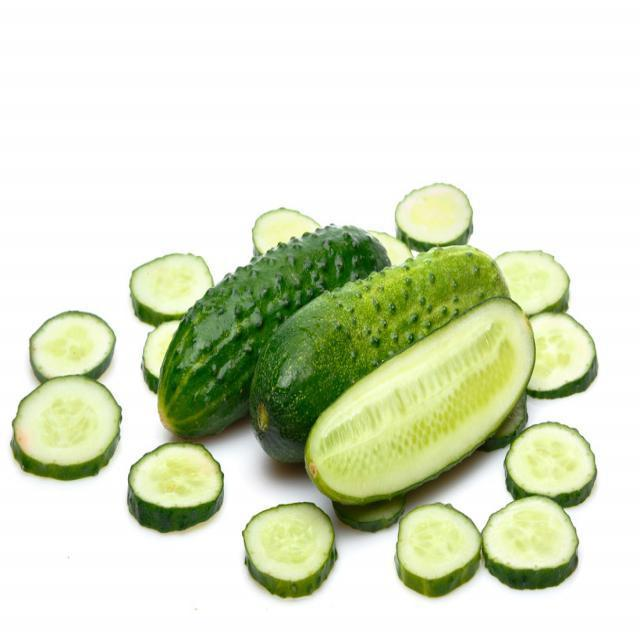cucumber: (25, 150, 604, 615), (308, 287, 540, 502), (0, 362, 133, 498), (458, 478, 590, 592), (32, 278, 125, 407), (492, 294, 616, 389), (384, 488, 484, 600), (124, 428, 228, 534), (240, 498, 352, 592)
